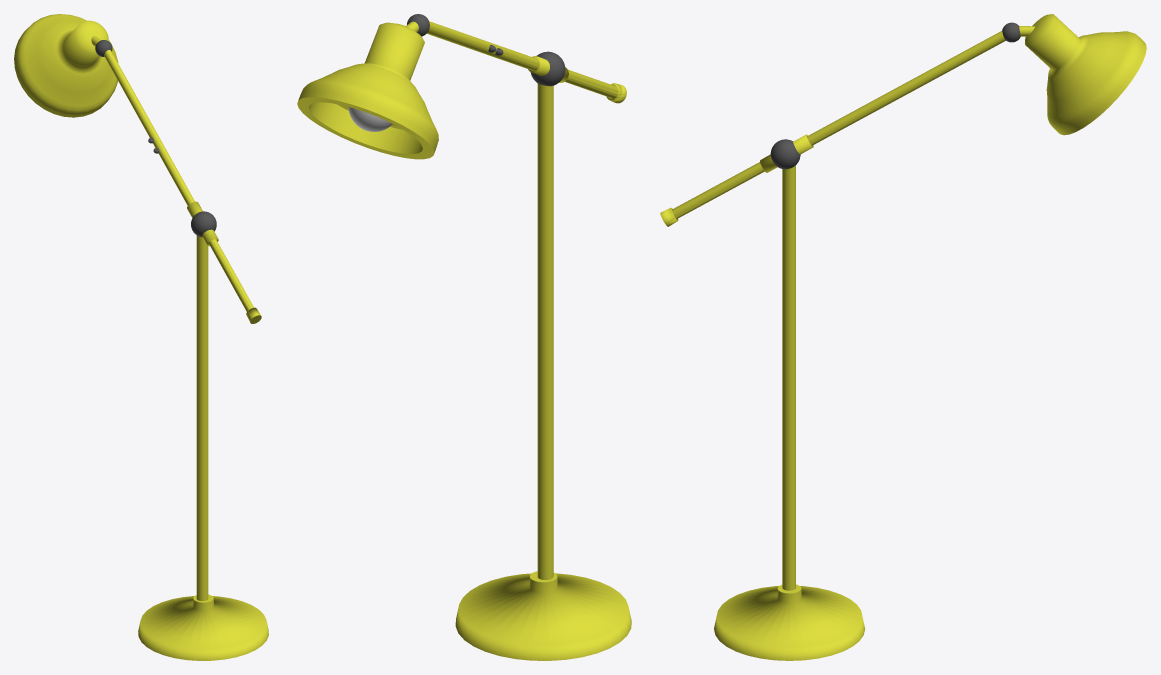
Rendered from Lamp.fbx.
3 views of the same model, side by side, from view 1: azimuth 30°, elevation 25°; view 2: azimuth 150°, elevation 25°; view 3: azimuth 270°, elevation 25° (orthographic). The views are drawn at different scales.
Visible parts, largest first — view 1: Lamp; view 2: Lamp; view 3: Lamp.
Part boxes in pixels (x1,y1,x2,y2): Lamp: (14, 14, 268, 660); Lamp: (297, 14, 631, 660); Lamp: (660, 14, 1146, 660).
Bounding box in the file's own units: 0.6294 × 2.8 × 2.02.
